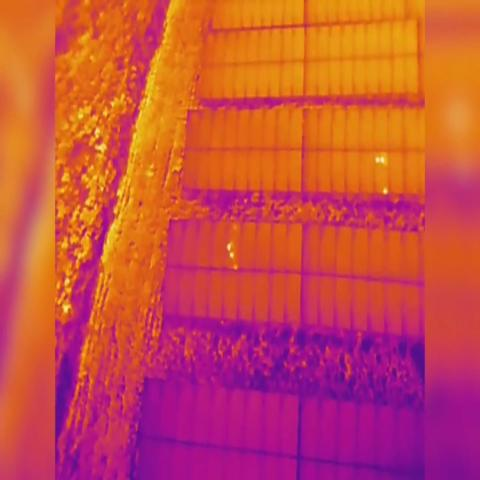fault: (230, 251, 234, 261), (375, 156, 379, 166), (226, 242, 231, 249), (380, 155, 384, 163), (383, 188, 388, 194), (233, 265, 238, 270)
